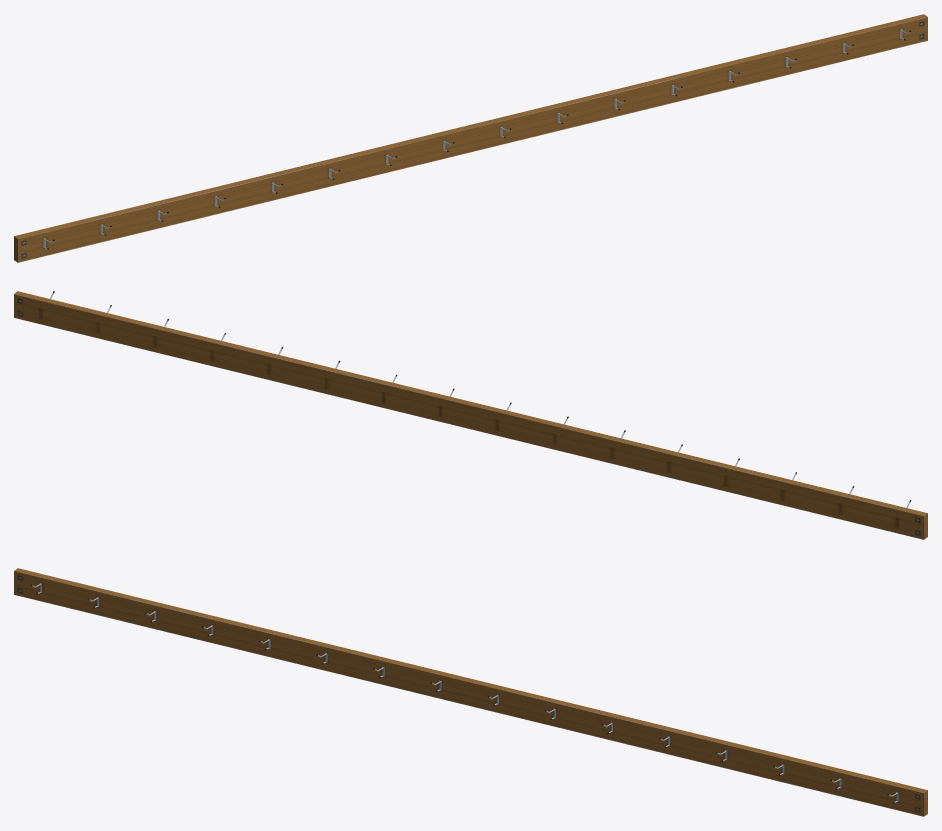
File: SHW_Hook_01_01.fbx
3 renders of one model, top to bottom at view 1: azimuth 30°, elevation 25°; view 2: azimuth 150°, elevation 25°; view 3: azimuth 330°, elevation 25°, orthographic.
Visible parts, largest first — view 1: shw_hook01; view 2: shw_hook01; view 3: shw_hook01.
Boxes of the visible parts, x1,y1,x2,y2 form: shw_hook01: (14, 14, 927, 262); shw_hook01: (14, 291, 927, 539); shw_hook01: (14, 568, 927, 816).
Bounding box in the file's own units: 400 × 10 × 10.57.
